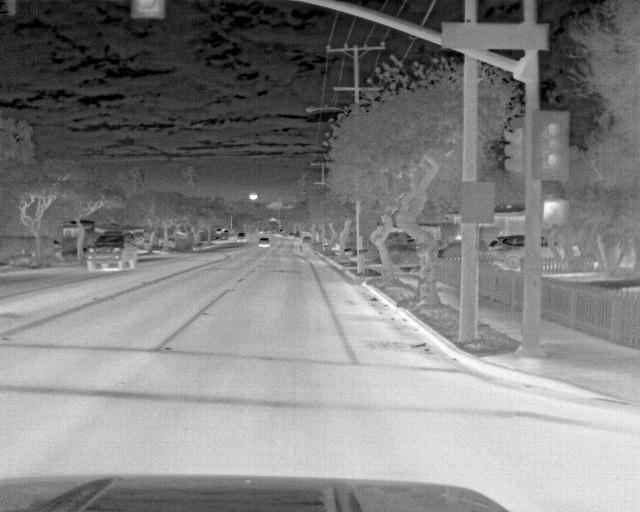car: (85, 228, 138, 272), (488, 235, 526, 270), (234, 230, 248, 243), (257, 236, 271, 249), (300, 235, 313, 245)
